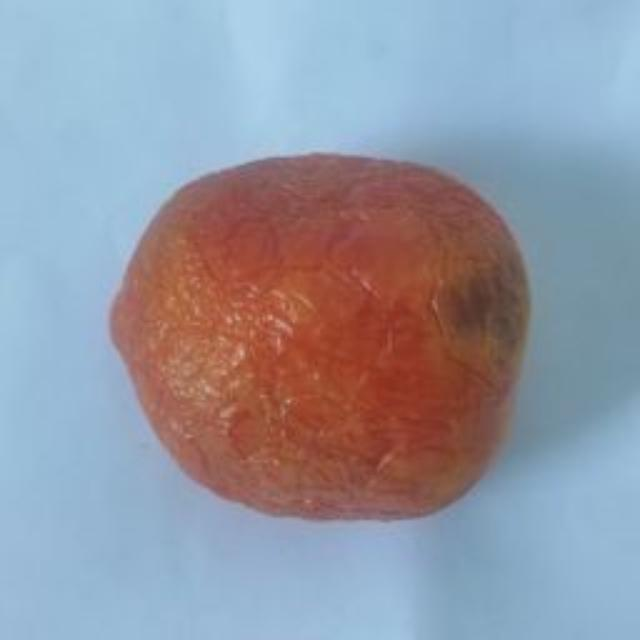defect: (105, 144, 536, 528)
